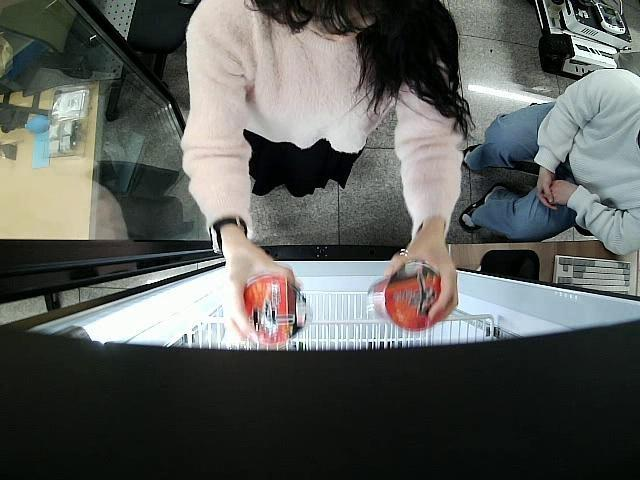02_shinRamen_S: (368, 260, 452, 331), (238, 276, 310, 345)
